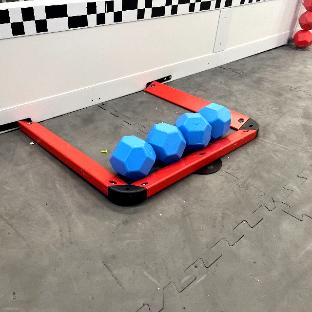Parking-R: (18, 111, 258, 205)
V5_BLUE: (111, 136, 155, 179), (148, 123, 185, 164), (176, 113, 211, 150), (199, 103, 230, 138)
